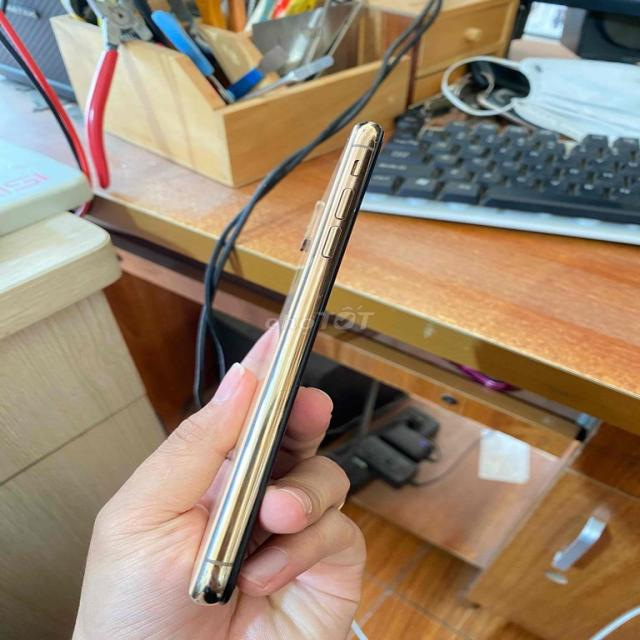gen_x_xs: (190, 122, 382, 605)
